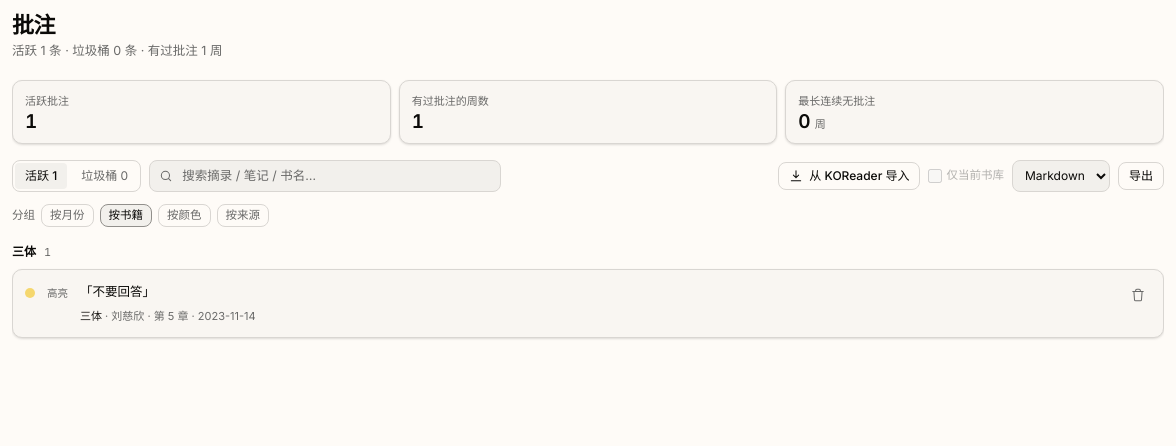
Scenario: AnnotationsView 的 KOReader 导入是两步走 › 一个文件都没找到 ⇒ 说没找到，且不给「确认导入」
Click the button "从 KOReader 导入".
click(849, 176)  # box top-left (778, 162), bottom-right (920, 190)
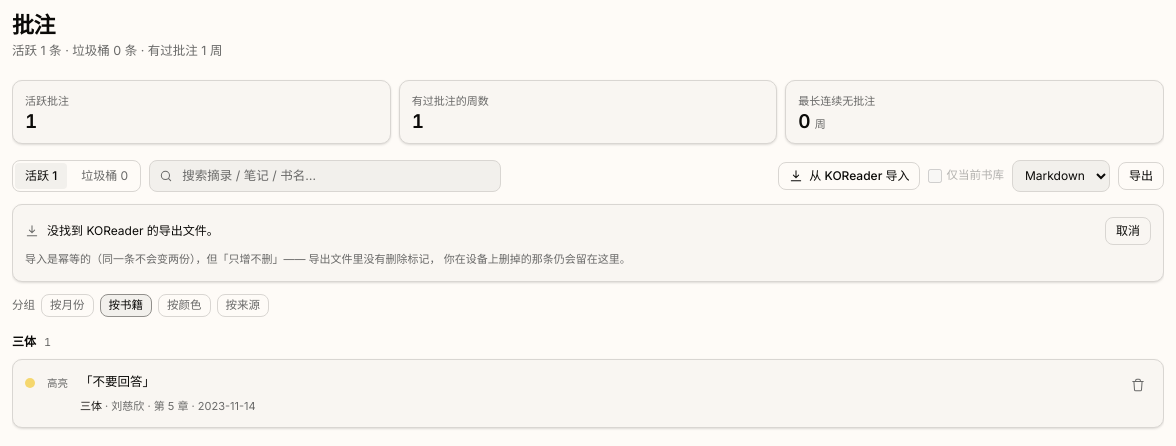
expect the text "没找到 KOReader 的导出文件" is shown: met, box top-left (47, 223), bottom-right (219, 238)
